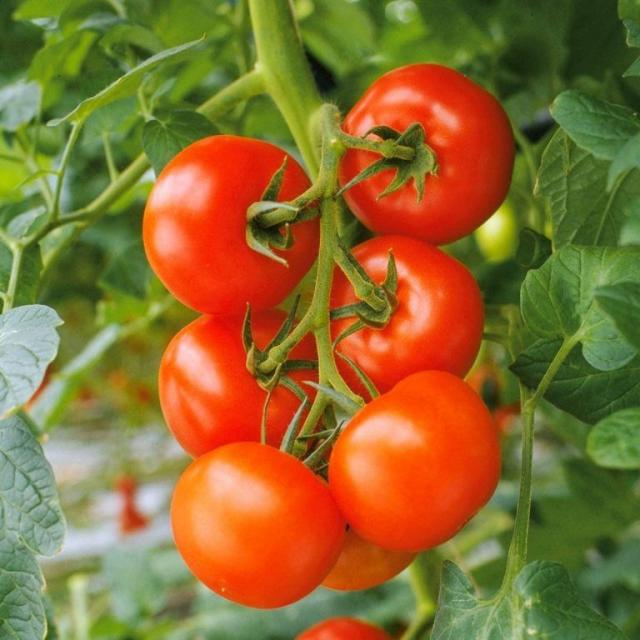level 6: (337, 66, 514, 246), (140, 136, 317, 310), (324, 388, 512, 548), (317, 235, 499, 397), (170, 444, 345, 605), (167, 309, 325, 487)
